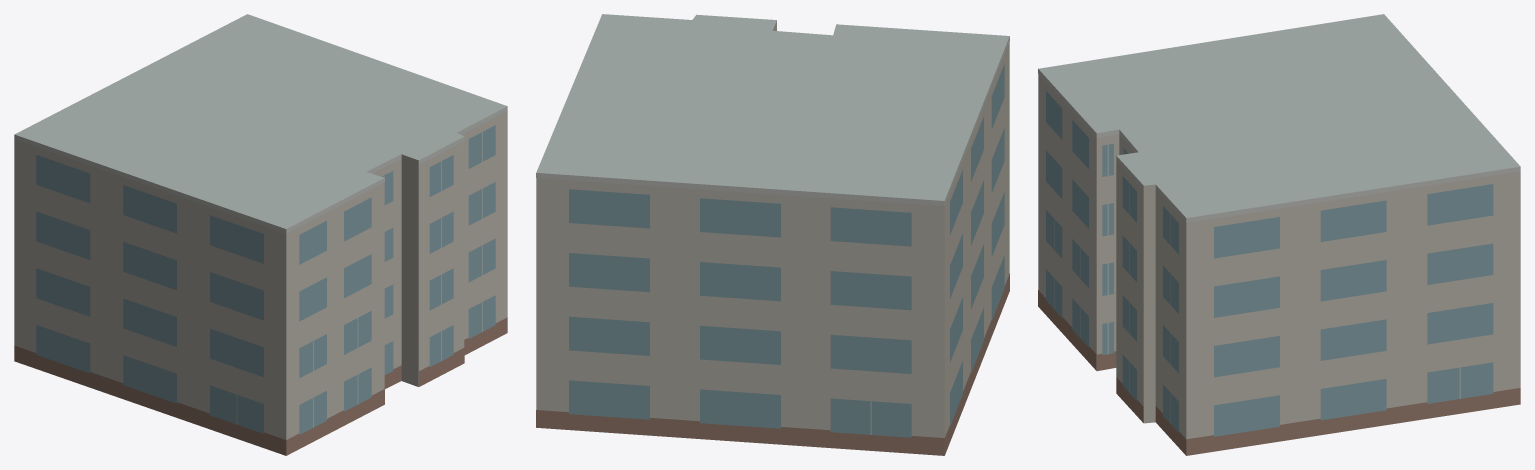
Rendered from survey-upis-32539640.glb.
3 views of the same model, side by side, from view 1: azimuth 30°, elevation 25°; view 2: azimuth 150°, elevation 25°; view 3: azimuth 270°, elevation 25° (orthographic). The views are drawn at different scales.
Parts seen in each view (by area): view 1: survey-upis-32539640.tmp; view 2: survey-upis-32539640.tmp; view 3: survey-upis-32539640.tmp.
Boxes of the visible parts, <box> form: survey-upis-32539640.tmp: <box>14,14,507,455</box>; survey-upis-32539640.tmp: <box>536,14,1009,455</box>; survey-upis-32539640.tmp: <box>1038,14,1520,455</box>.
Size of the model in its own units: 22.1 by 12 by 22.08.
